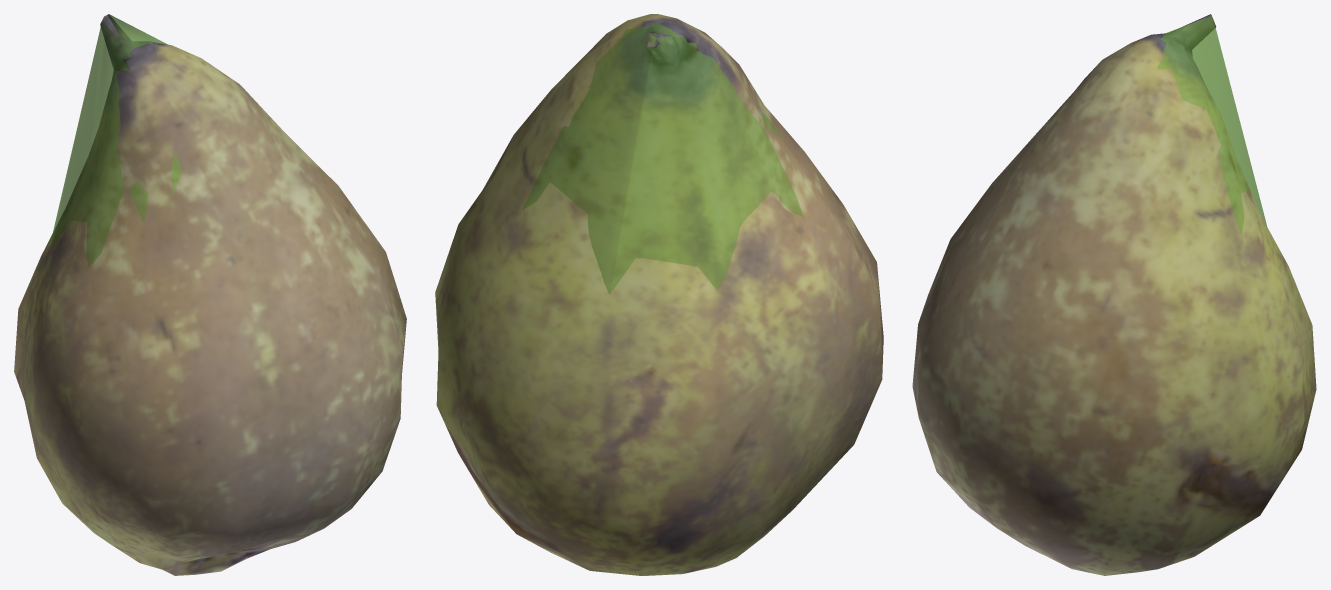
Rendered from pg_Pear_04.fbx.
The picture shows the model from 3 angles, left to right: view 1: azimuth 30°, elevation 25°; view 2: azimuth 150°, elevation 25°; view 3: azimuth 270°, elevation 25°; orthographic projection. The views are drawn at different scales.
Visible parts, largest first — view 1: pg_Pear_04_a_LOD0, pg_Pear_04_a_col; view 2: pg_Pear_04_a_LOD0, pg_Pear_04_a_col; view 3: pg_Pear_04_a_LOD0, pg_Pear_04_a_col.
Boxes of the visible parts, bbox=[...] form: pg_Pear_04_a_LOD0: bbox=[14, 14, 406, 575]; pg_Pear_04_a_col: bbox=[49, 14, 240, 555]; pg_Pear_04_a_LOD0: bbox=[435, 14, 883, 575]; pg_Pear_04_a_col: bbox=[522, 23, 803, 294]; pg_Pear_04_a_LOD0: bbox=[912, 14, 1316, 575]; pg_Pear_04_a_col: bbox=[1157, 16, 1266, 235].
Size of what is drawn, in the model's own units: 6.06 by 8.9 by 6.29.
Materials: 2 (1 with a texture image).
